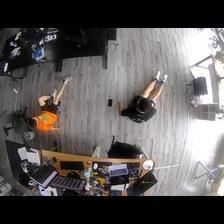fall: (116, 69, 169, 123), (31, 74, 73, 135)
